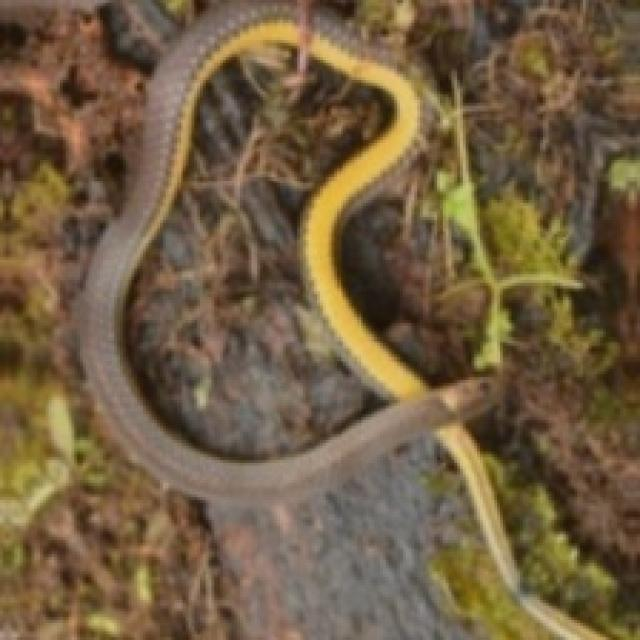gervais worm snake: (82, 2, 601, 639)
